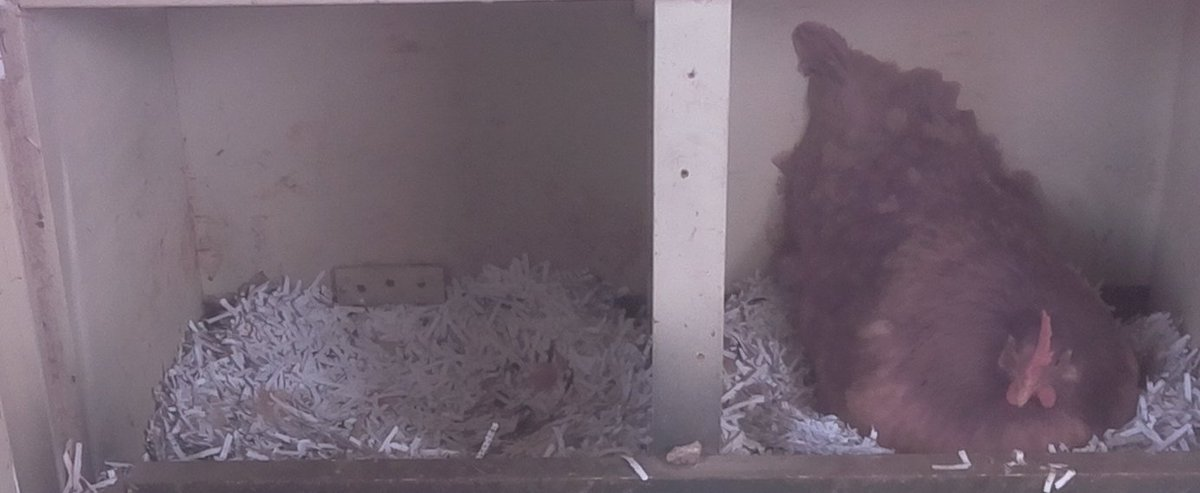hen: (771, 65, 1148, 449)
